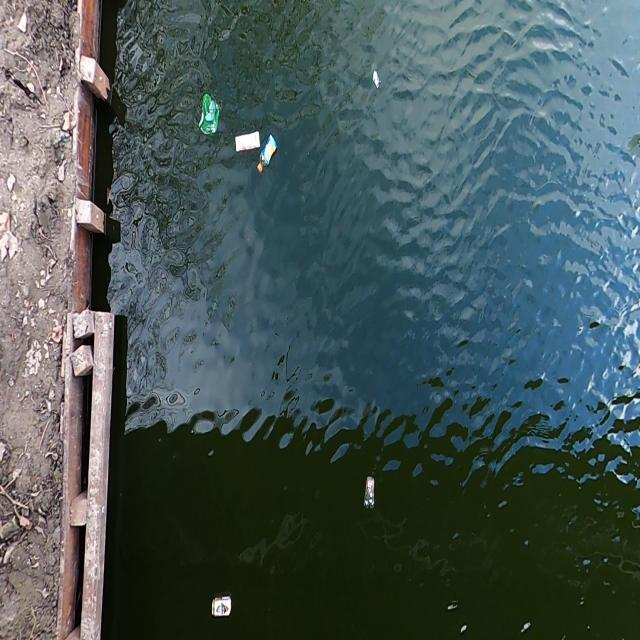Bouteille plastique: (254, 130, 285, 182)
Non plastique: (210, 591, 234, 626)
Sac plastique: (194, 94, 222, 144)
